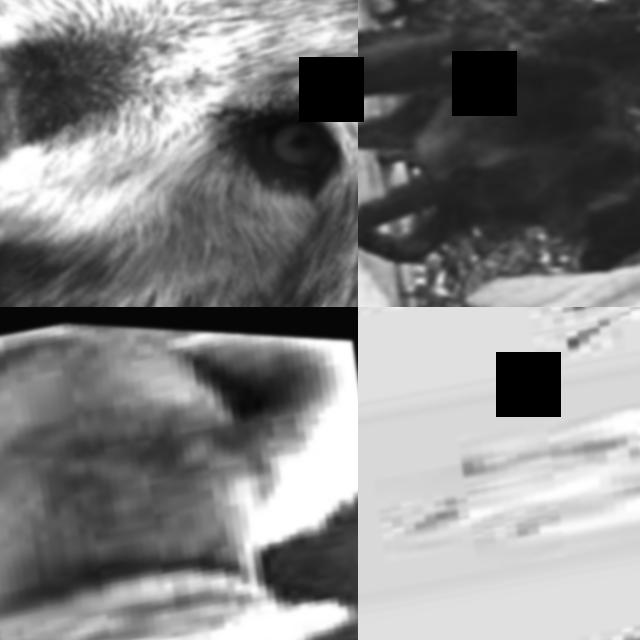dog: (0, 307, 358, 640), (358, 326, 640, 600), (358, 501, 640, 640), (358, 307, 640, 438)
wolf: (0, 0, 358, 307), (358, 0, 640, 307), (358, 201, 640, 307)
